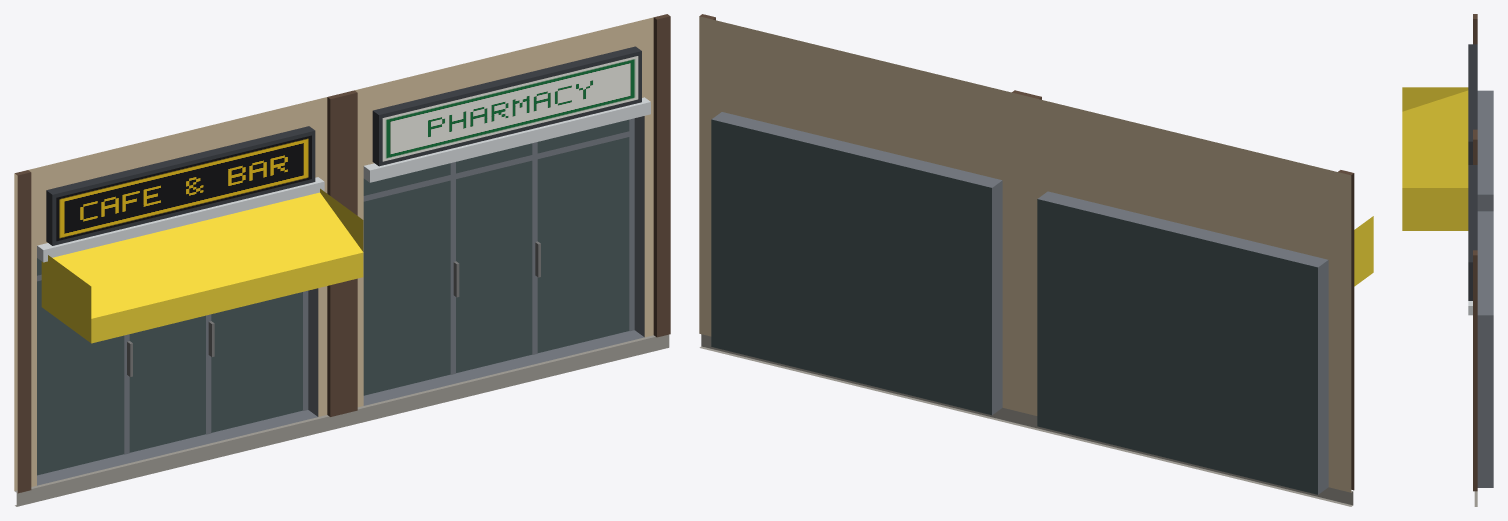
Rendered from base-w2_close.fbx.
3 renders of one model, left to right at view 1: azimuth 30°, elevation 25°; view 2: azimuth 150°, elevation 25°; view 3: azimuth 270°, elevation 25°, orthographic. The views are drawn at different scales.
Parts seen in each view (by area): view 1: a2009/200/base-w2_close; view 2: a2009/200/base-w2_close; view 3: a2009/200/base-w2_close.
Boxes of the visible parts, x1,y1,x2,y2 form: a2009/200/base-w2_close: (14, 14, 670, 506); a2009/200/base-w2_close: (699, 14, 1373, 506); a2009/200/base-w2_close: (1402, 14, 1493, 506).
Bounding box in the file's own units: 7.2 × 3.5 × 1.15.
